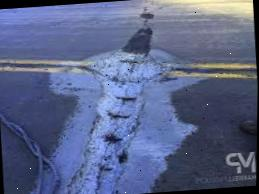exposed_rebar: (102, 132, 121, 142), (107, 111, 129, 118), (118, 149, 127, 162), (115, 96, 137, 100), (102, 167, 113, 170)
spalling: (66, 49, 174, 194)
